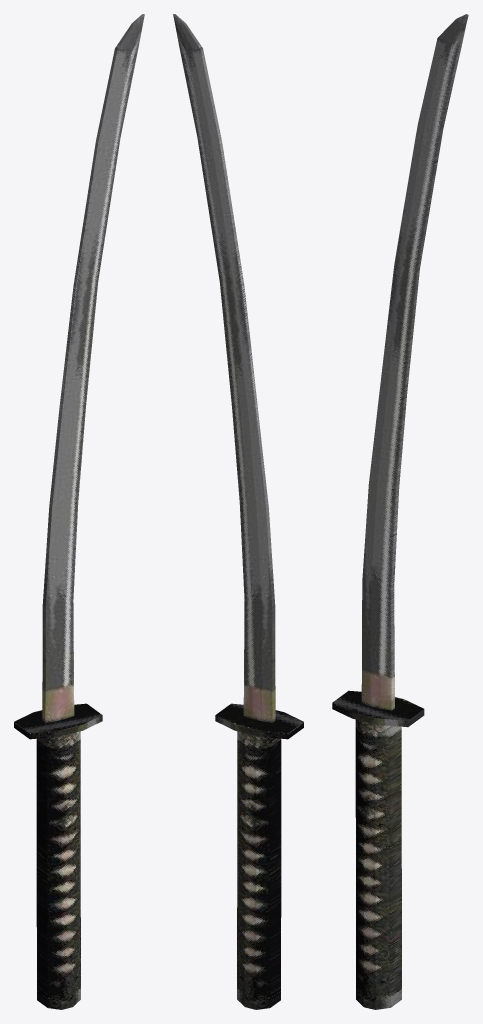
File: shop-item-1002.glb
3 views of the same model, side by side, from view 1: azimuth 30°, elevation 25°; view 2: azimuth 150°, elevation 25°; view 3: azimuth 330°, elevation 25° (orthographic). The views are drawn at different scales.
Parts seen in each view (by area): view 1: Cube; view 2: Cube; view 3: Cube.
Part boxes in pixels (x1=…): Cube: x1=14, y1=14, x2=144, y2=1009; Cube: x1=173, y1=14, x2=303, y2=1009; Cube: x1=332, y1=14, x2=468, y2=1009.
Bounding box in the file's own units: 0.134 × 1.01 × 0.0476.
1 material, 1 textured.
